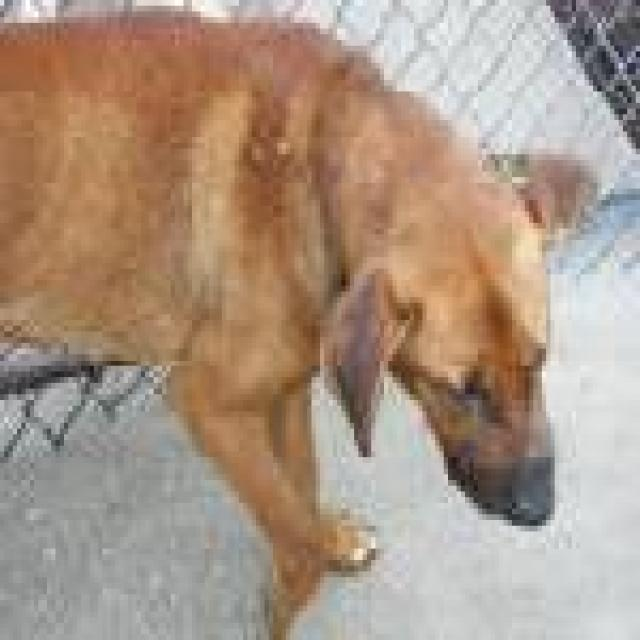Dog: (326, 145, 592, 542)
